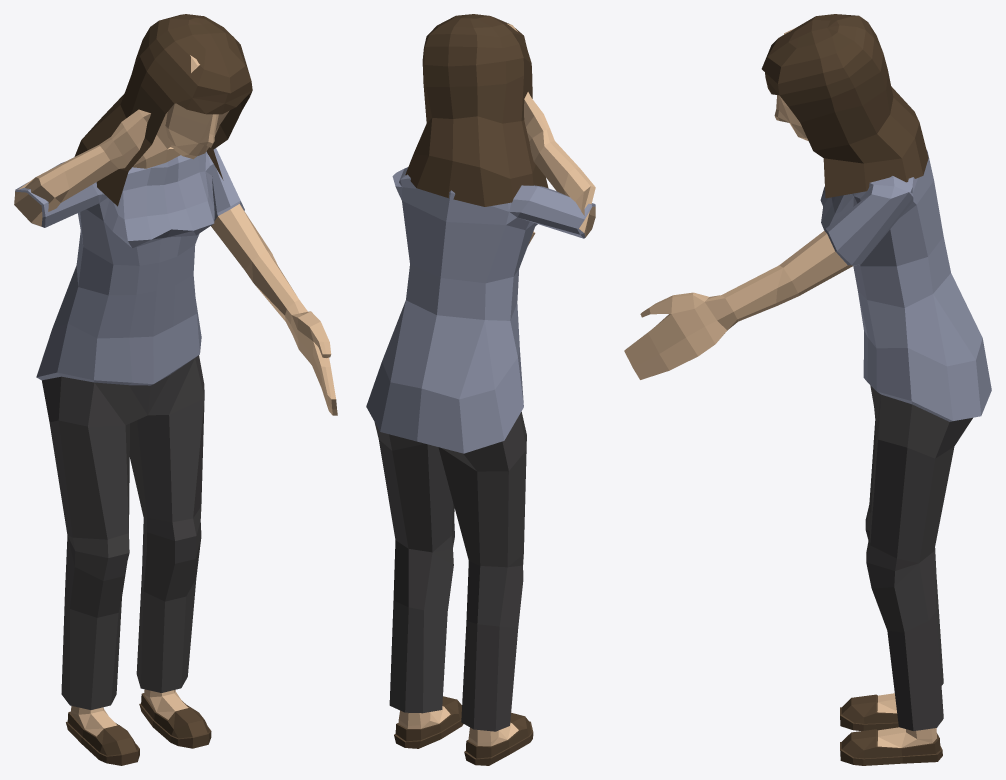
File: Female_DJ_RightEar.glb
The picture shows the model from 3 angles, left to right: view 1: azimuth 30°, elevation 25°; view 2: azimuth 150°, elevation 25°; view 3: azimuth 270°, elevation 25°; orthographic projection. The views are drawn at different scales.
Visible parts, largest first — view 1: Female_DJ_RightEar; view 2: Female_DJ_RightEar; view 3: Female_DJ_RightEar.
Boxes of the visible parts, x1,y1,x2,y2 form: Female_DJ_RightEar: [14, 14, 337, 765]; Female_DJ_RightEar: [366, 14, 595, 765]; Female_DJ_RightEar: [624, 14, 991, 765].
Bounding box in the file's own units: 0.5035 × 1.66 × 0.7601.
